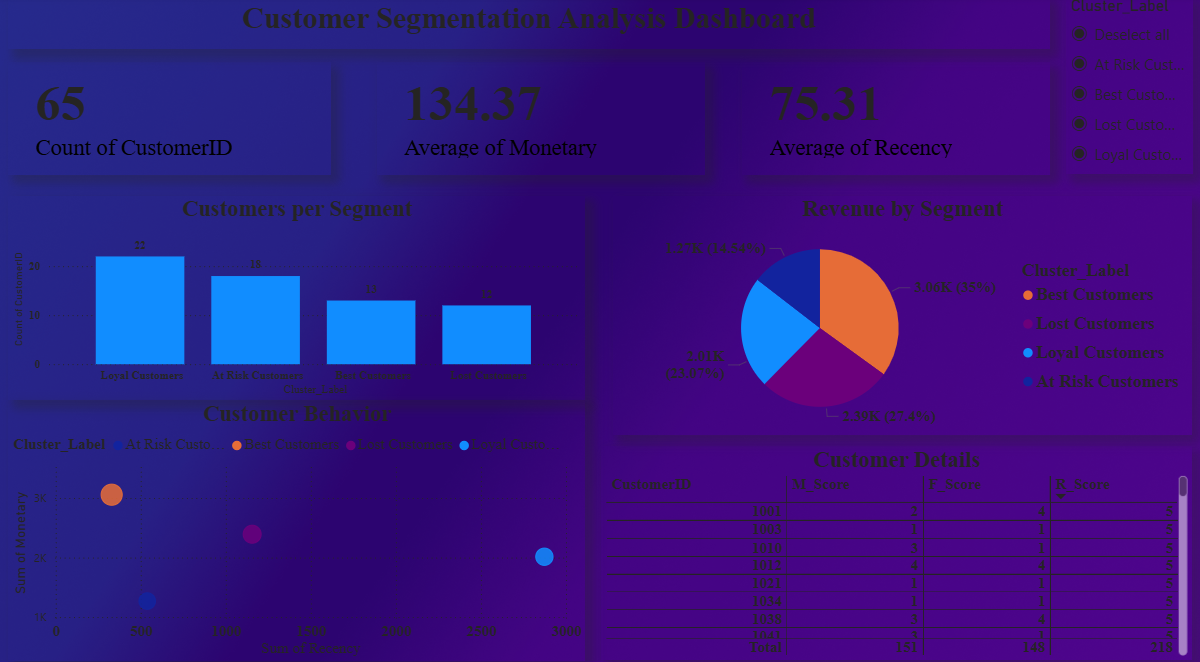

Layout of this report page (visuals, bound fields, positions):
{"tool":"powerbi","page":{"name":"Page 1","canvas":[1280,720],"ordinal":0},"visuals":[{"type":"cardVisual","fields":{"Data":["CountNonNull(Final_RFM_Dashboard.CustomerID)"]},"box":[10,69.8,342.4,119.7],"z":0},{"type":"cardVisual","fields":{"Data":["Avg(Final_RFM_Dashboard.Monetary)"]},"box":[402.2,69.8,349.1,119.7],"z":1},{"type":"cardVisual","fields":{"Data":["Avg(Final_RFM_Dashboard.Recency)"]},"box":[789.5,69.8,327.4,119.7],"z":2},{"type":"clusteredColumnChart","title":"Customers per Segment","fields":{"Category":["retail_RFM_KMeans.Cluster_Label"],"Y":["Count(Final_RFM_Dashboard.CustomerID)"]},"box":[9.8,212.2,613.6,217.1],"z":3},{"type":"pieChart","title":"Revenue by Segment","fields":{"Category":["retail_RFM_KMeans.Cluster_Label"],"Y":["Sum(retail_RFM_KMeans.Monetary)"]},"box":[653.2,212.8,615,254.3],"z":4},{"type":"scatterChart","title":"Customer Behavior","fields":{"X":["Sum(retail_RFM_KMeans.Recency)"],"Y":["Sum(retail_RFM_KMeans.Monetary)"],"Series":["retail_RFM_KMeans.Cluster_Label"],"Size":["Sum(retail_RFM_KMeans.Frequency)"]},"box":[9.8,429.2,613.6,277.4],"z":5},{"type":"tableEx","title":"Customer Details","fields":{"Values":["Final_RFM_Dashboard.CustomerID","Sum(retail_RFM_KMeans.M_Score)","Sum(retail_RFM_KMeans.F_Score)","Sum(retail_RFM_KMeans.R_Score)"]},"box":[639.9,478.7,628.3,227.7],"z":6},{"type":"textbox","box":[10,0,1107,56.5],"z":7},{"type":"listSlicer","fields":{"Values":["retail_RFM_KMeans.Cluster_Label"]},"box":[1133.6,0,134.6,189.5],"z":8}]}

Visuals, with their boxes in screenshot pixels (x1, y1, x2, y2), scaled from the page's 1280x720 canvas onto the 1200x662 screenshot:
cardVisual - CountNonNull(Final_RFM_Dashboard.CustomerID): l=9, t=64, r=330, b=174
cardVisual - Avg(Final_RFM_Dashboard.Monetary): l=377, t=64, r=704, b=174
cardVisual - Avg(Final_RFM_Dashboard.Recency): l=740, t=64, r=1047, b=174
"Customers per Segment" clusteredColumnChart: l=9, t=195, r=584, b=395
"Revenue by Segment" pieChart: l=612, t=196, r=1189, b=429
"Customer Behavior" scatterChart: l=9, t=395, r=584, b=650
"Customer Details" tableEx: l=600, t=440, r=1189, b=649
textbox: l=9, t=0, r=1047, b=52
listSlicer - retail_RFM_KMeans.Cluster_Label: l=1063, t=0, r=1189, b=174
